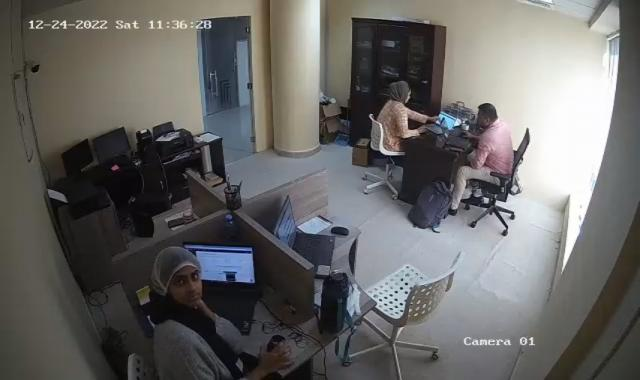hairnet: (149, 247, 204, 313)
no_hairnet: (474, 104, 498, 131), (389, 80, 411, 108)
